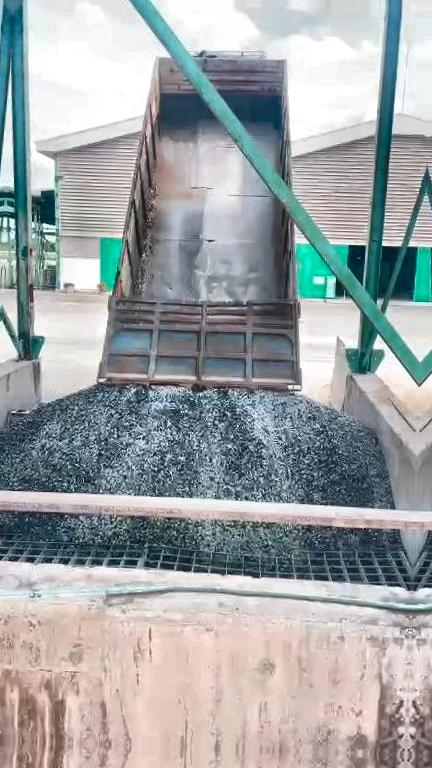gravel: (0, 386, 392, 507), (0, 515, 393, 552)
